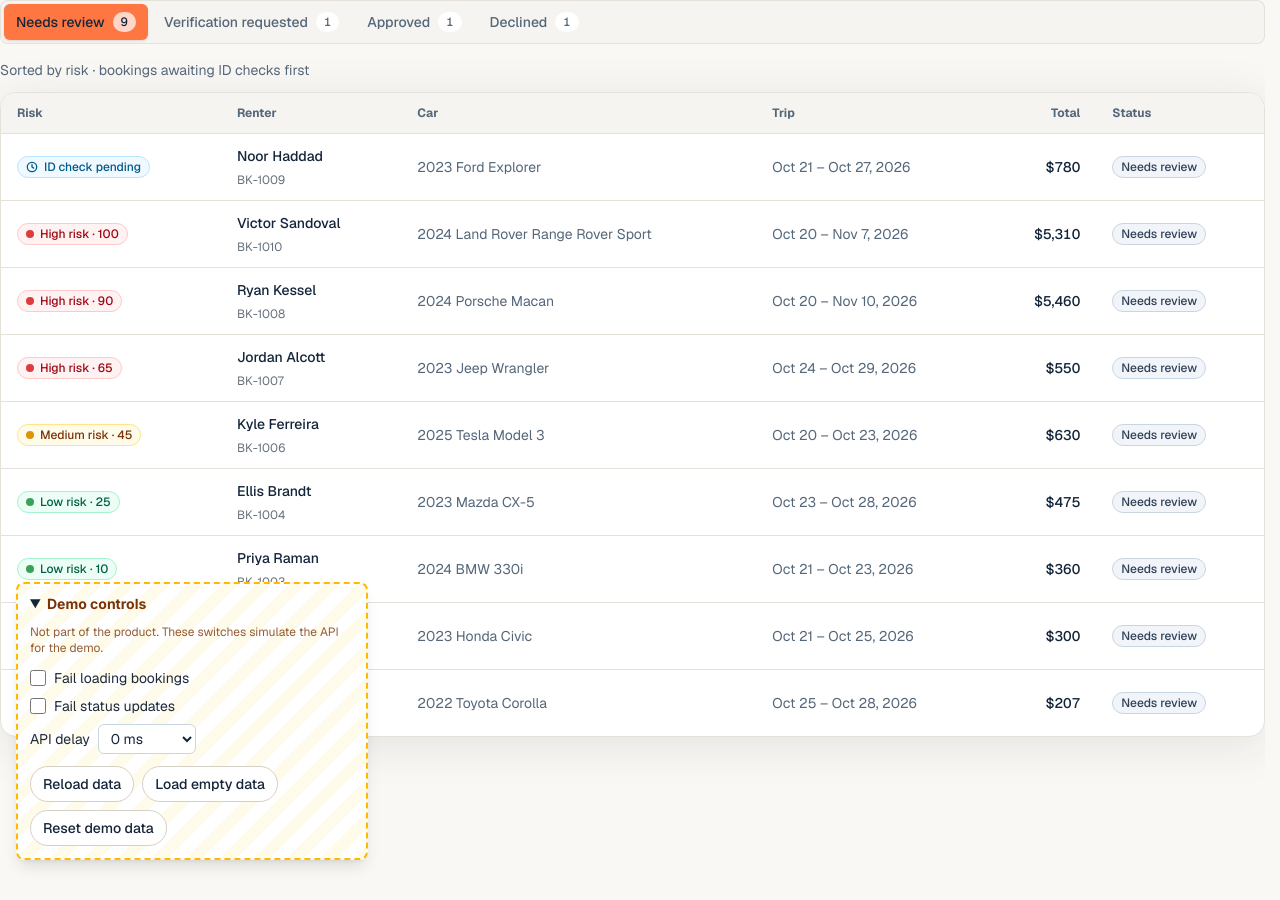
Test: Recommendations in the drawer › RC-12: the operator can approve a booking the engine says to decline
Expected: the element named "Booking status" is shown, [0, 0, 1265, 44]
Step 1. Click the button "Ryan Kessel" → (277, 290), box [237, 280, 316, 300]
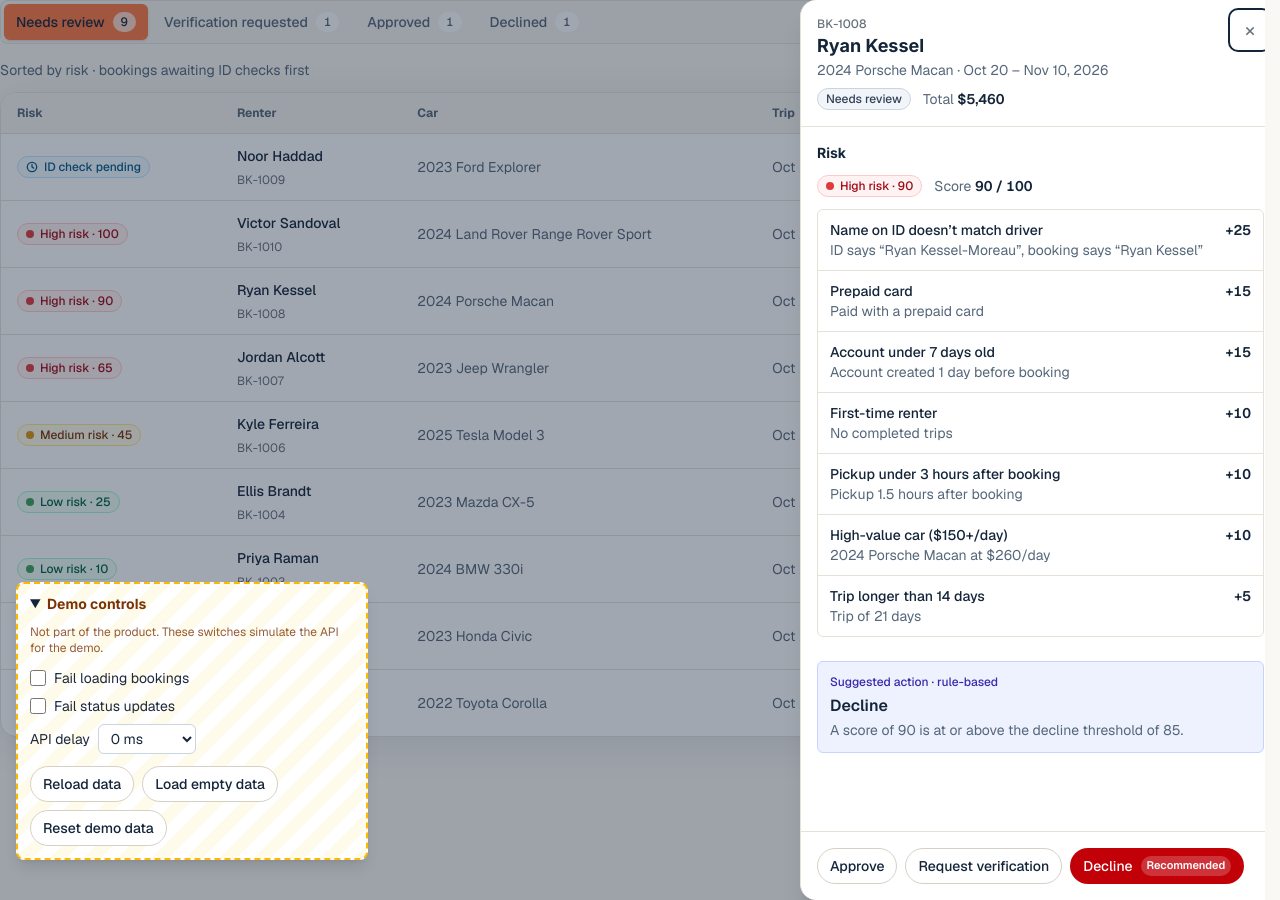
Step 2. Click the button "Approve" → (857, 866), box [817, 848, 898, 884]
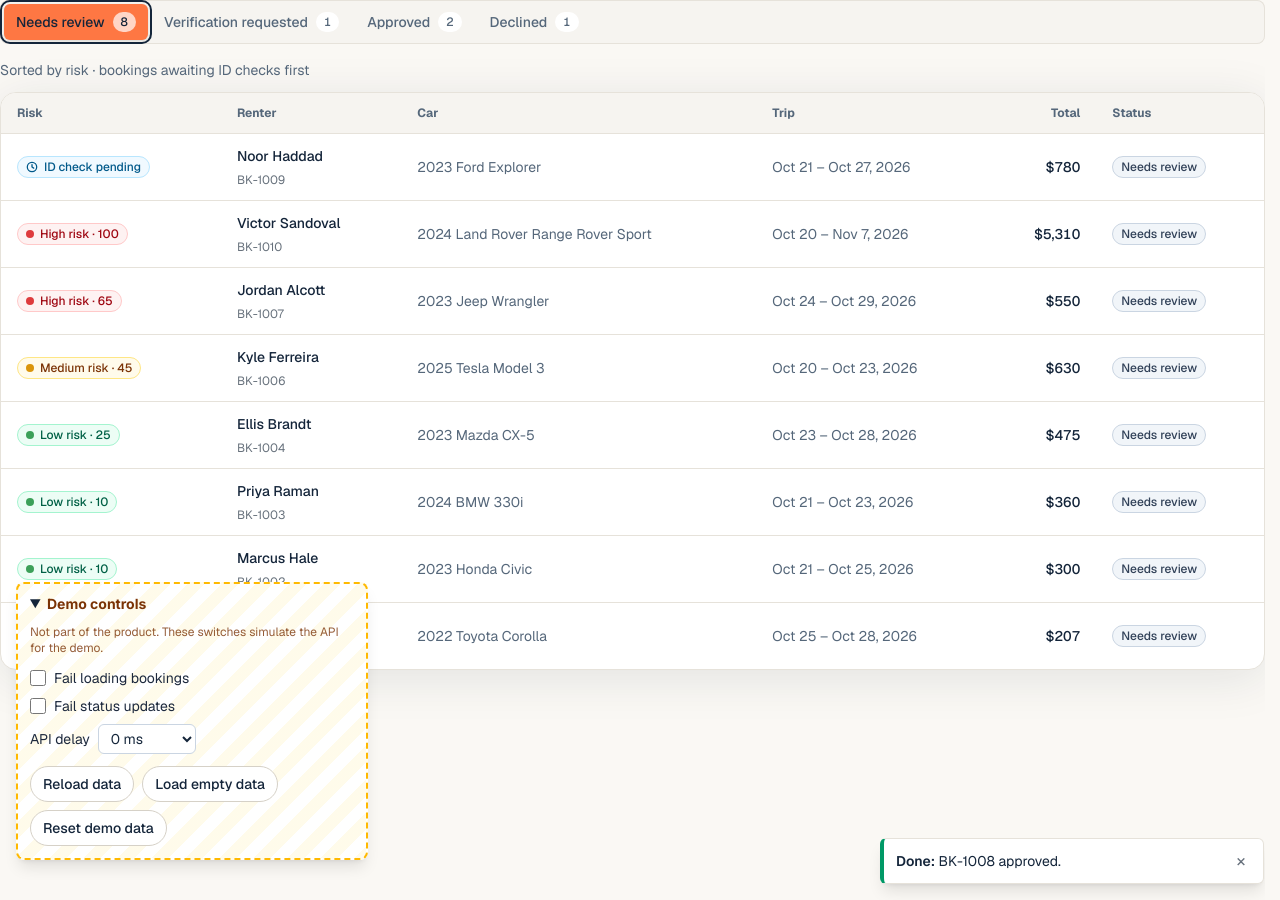
Now the text "BK-1008 approved." is shown, box [938, 852, 1061, 870]
Now the tab "Needs review 8" is shown, box [4, 4, 148, 40]
Now the tab "Approved 2" is shown, box [355, 4, 474, 40]
